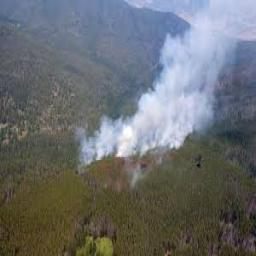Low smoke: (77, 0, 249, 166)
